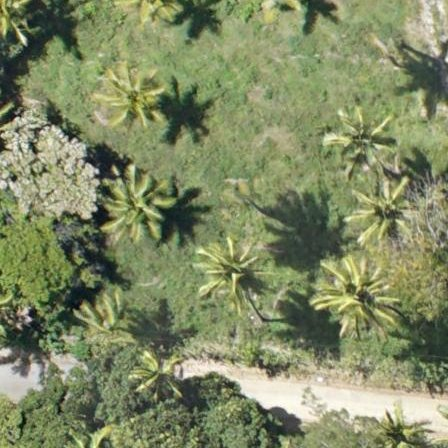palm_tree: (315, 257, 388, 325), (98, 171, 172, 236), (97, 64, 165, 127), (327, 109, 393, 172), (196, 241, 263, 301), (354, 184, 413, 243), (131, 346, 185, 396)
